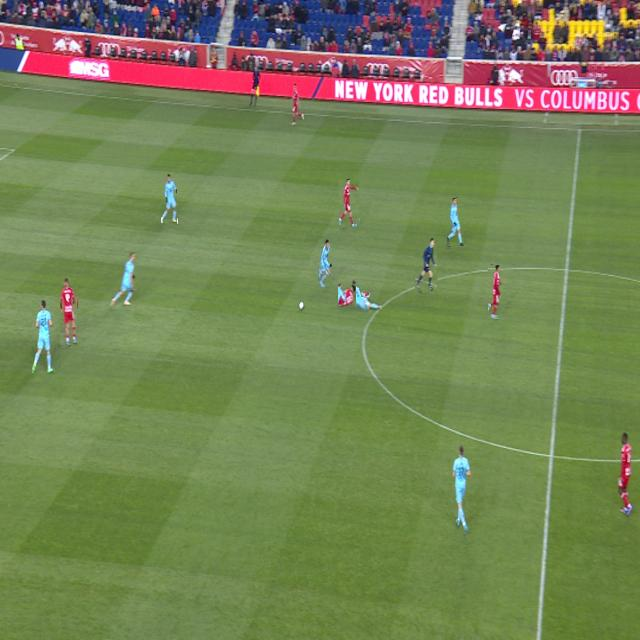football: (299, 301, 304, 310)
player: (32, 300, 54, 374), (453, 446, 471, 531), (112, 253, 134, 305), (619, 433, 632, 515), (61, 279, 77, 345), (348, 280, 382, 310), (339, 180, 359, 227), (447, 198, 464, 246), (488, 265, 502, 318), (162, 175, 177, 224), (319, 239, 332, 287), (291, 83, 304, 125), (338, 284, 356, 307), (362, 293, 369, 297)
referee: (415, 239, 437, 291)
